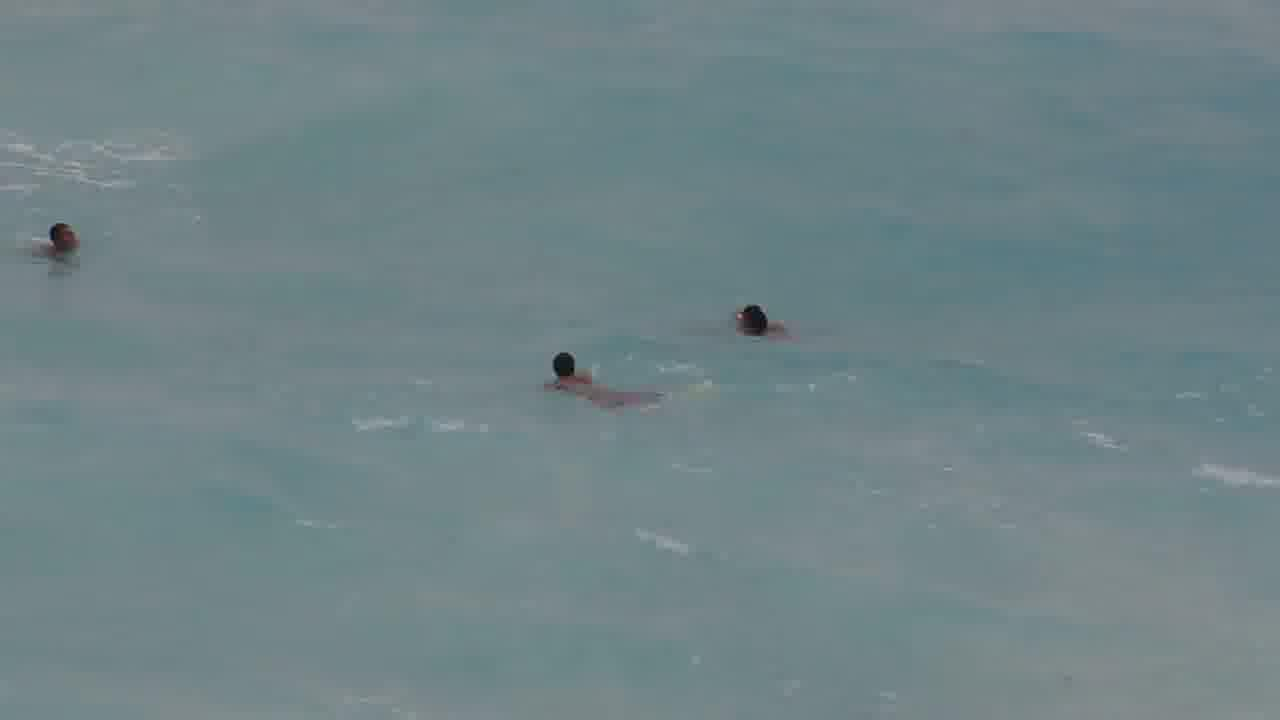human: (522, 340, 598, 388), (729, 302, 784, 342), (41, 213, 81, 251)
